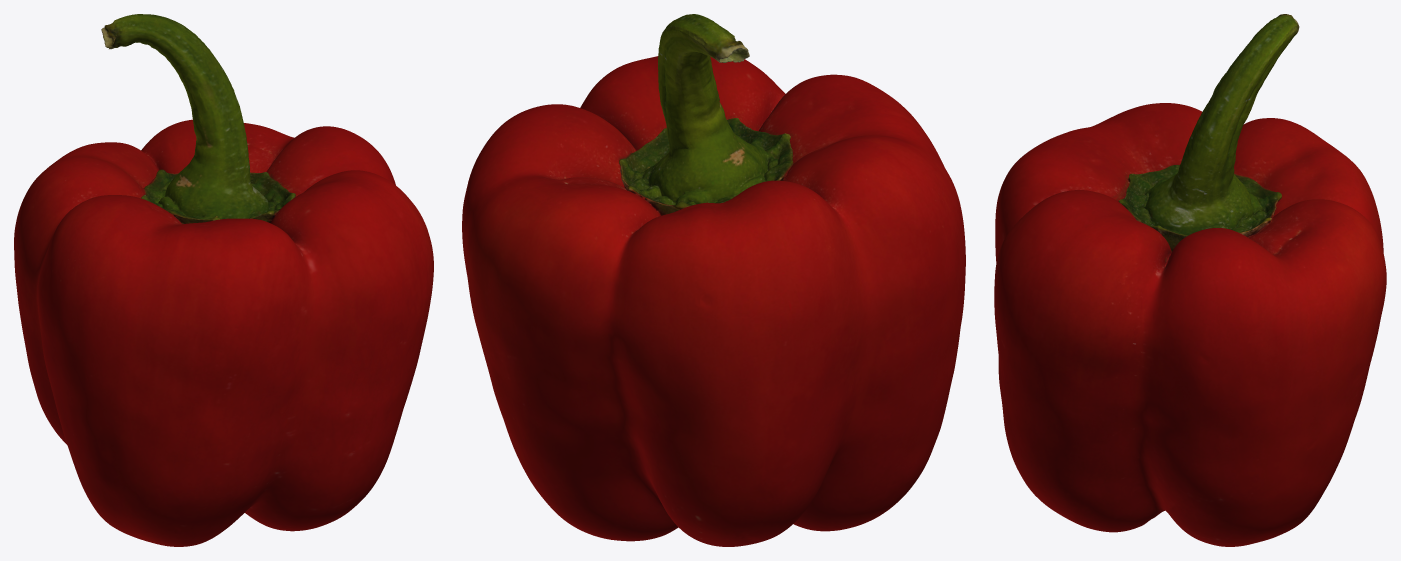
The model's file is Pepper.fbx.
3 views of the same model, side by side, from view 1: azimuth 30°, elevation 25°; view 2: azimuth 150°, elevation 25°; view 3: azimuth 270°, elevation 25° (orthographic). The views are drawn at different scales.
Visible parts, largest first — view 1: 7_Pepper; view 2: 7_Pepper; view 3: 7_Pepper.
Boxes of the visible parts, x1,y1,x2,y2 form: 7_Pepper: [14, 14, 433, 546]; 7_Pepper: [462, 14, 965, 546]; 7_Pepper: [994, 14, 1386, 546].
Size of the model in its own units: 11.17 by 13.63 by 10.3.
